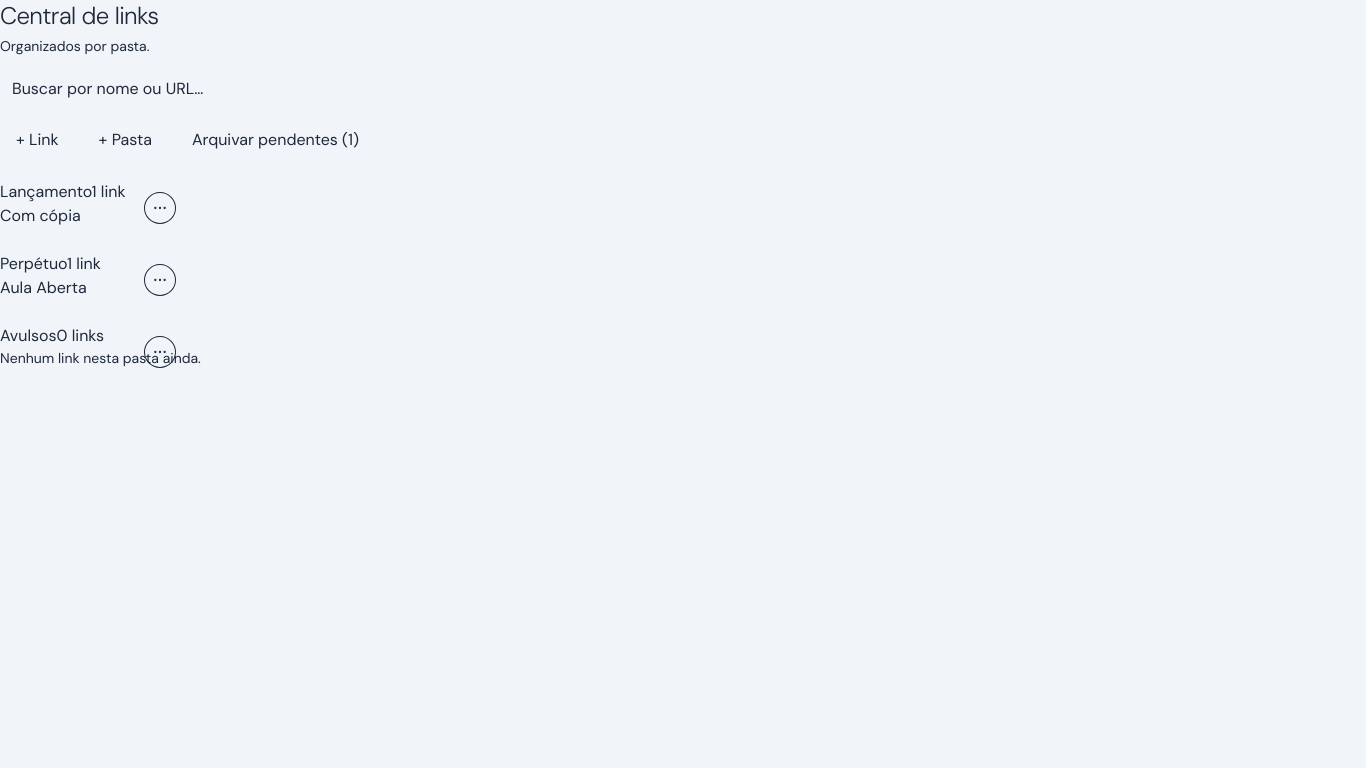
Central de links: página arquivada › link sem arquivo não oferece nenhuma dessas ações
Expected: the element named "Pastas" is shown, top-left (0, 180), bottom-right (201, 368)
Click the button "Perpétuo1 link".
click(50, 264)  # box top-left (0, 252), bottom-right (101, 276)
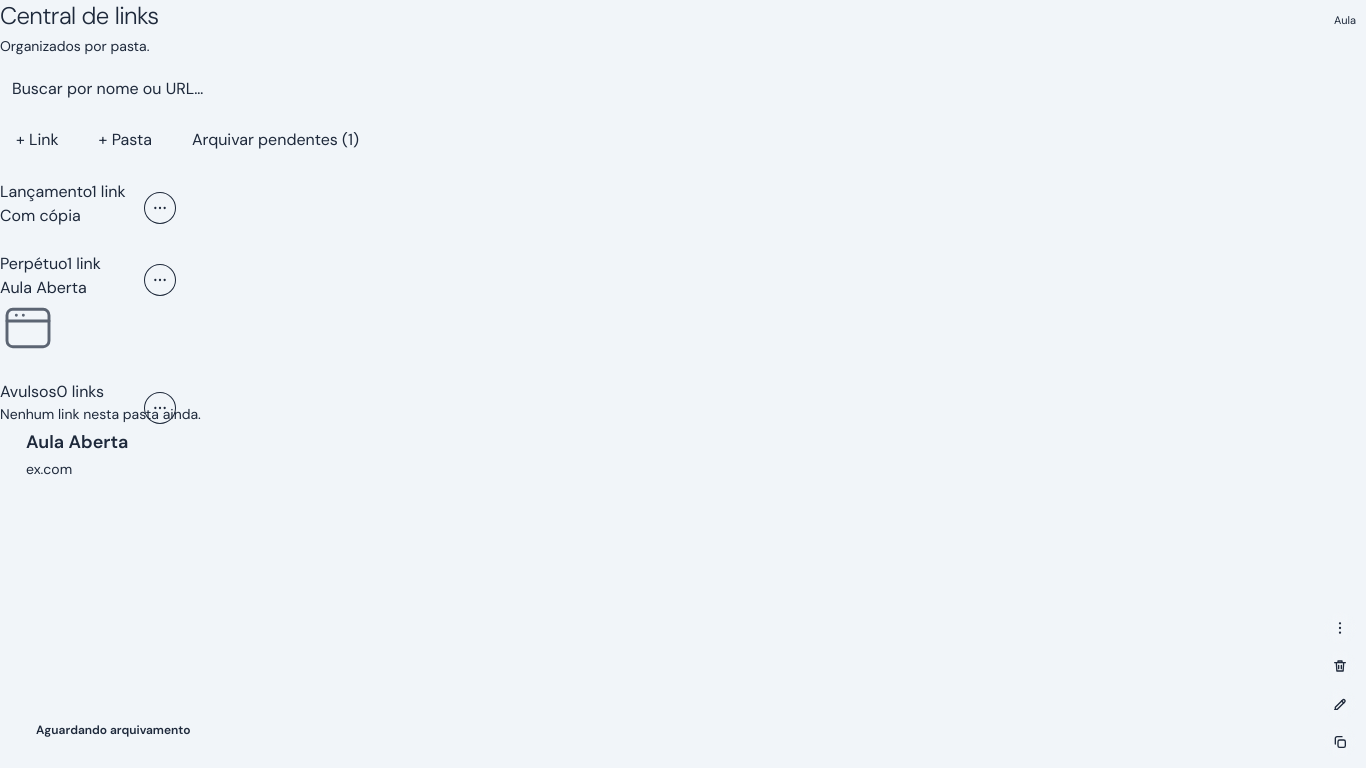
Click the button named "Mais ações de Aula Aberta".
click(1340, 628)  # box top-left (1324, 612), bottom-right (1356, 644)
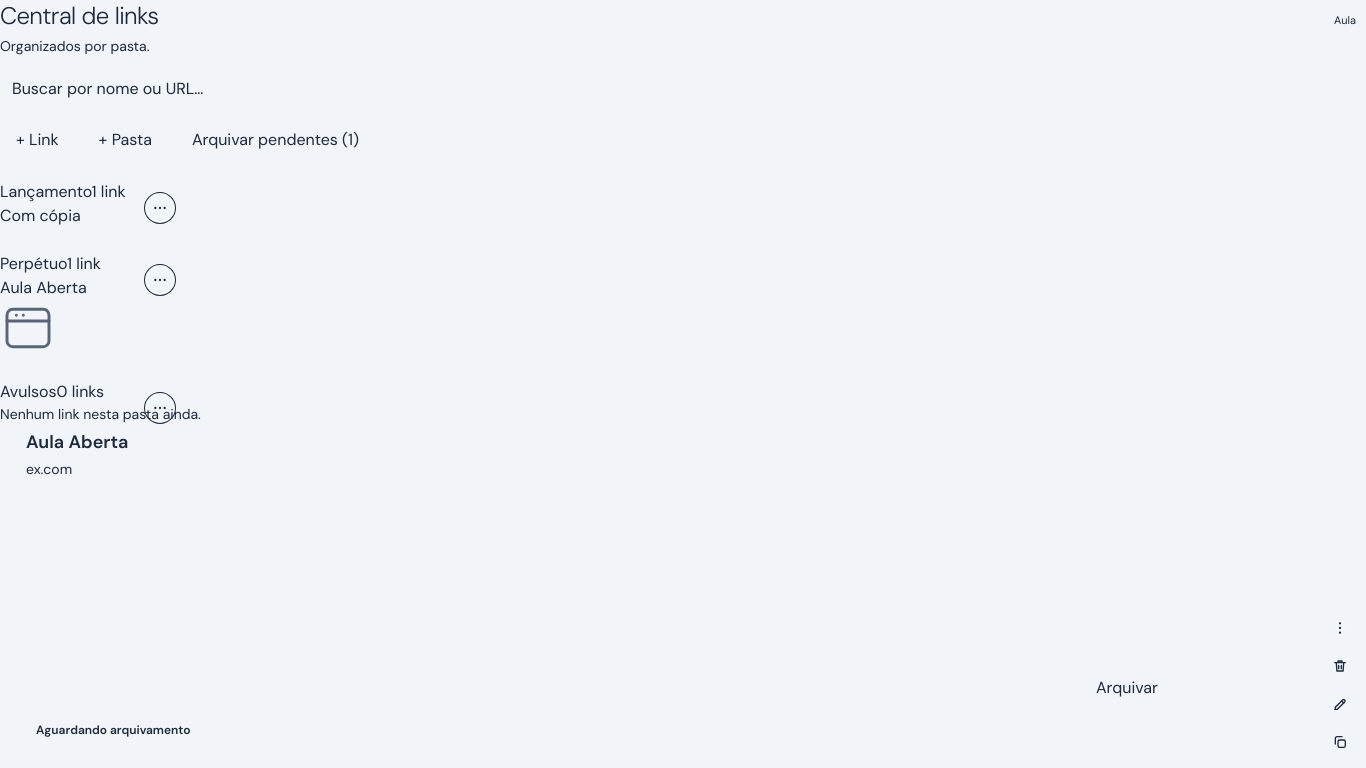
Result: the button "Arquivar" is shown at top-left (1084, 668), bottom-right (1340, 708)
